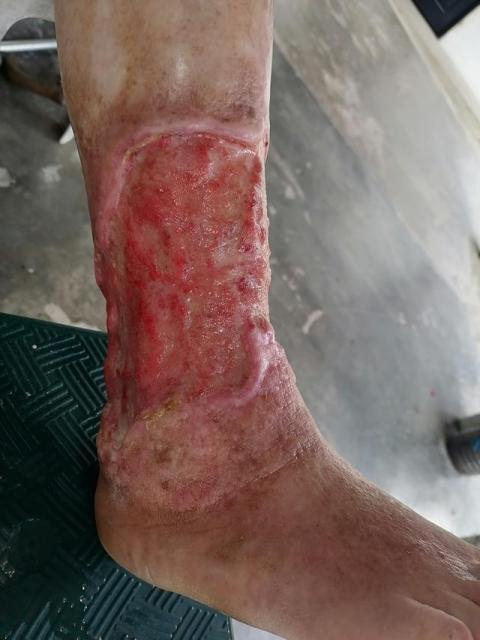wound: (93, 125, 284, 459)
